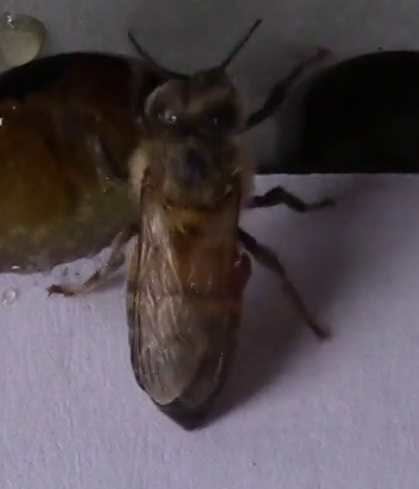Varroa destructor: (225, 253, 251, 302)
